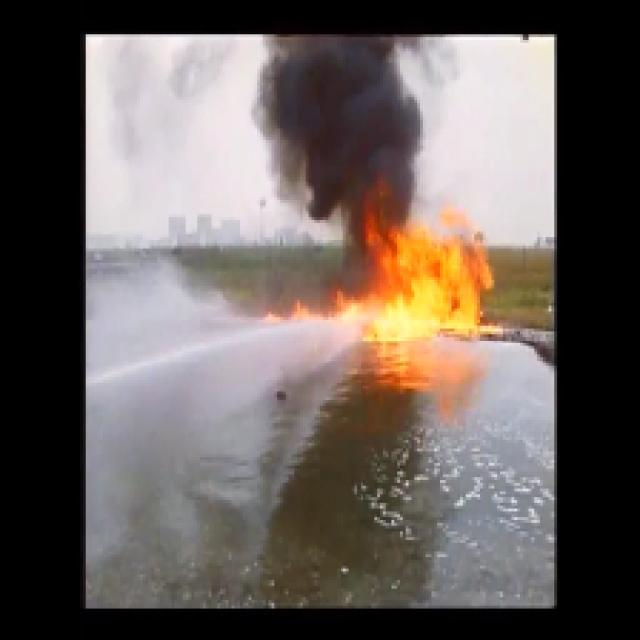fire: (378, 225, 498, 358)
smoke: (273, 54, 426, 211)
